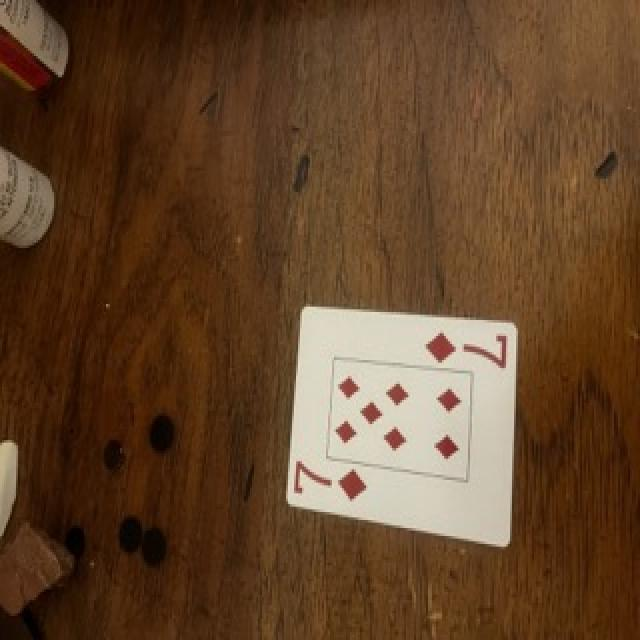7 of diamonds: (288, 307, 518, 547)
